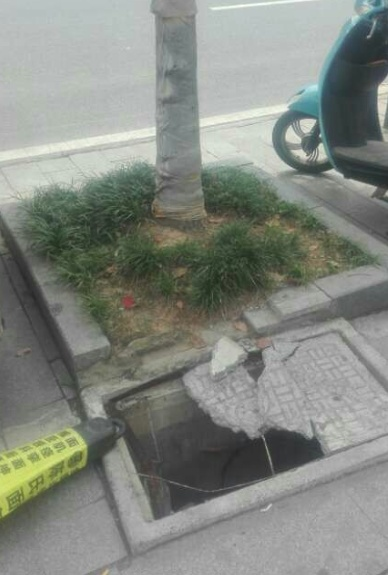broke: (103, 328, 387, 524)
